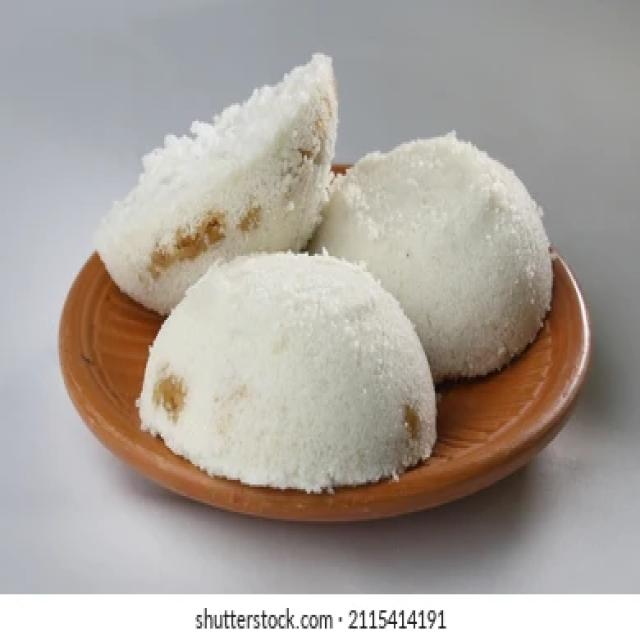IDLI: (136, 251, 435, 491), (95, 55, 336, 311), (310, 133, 550, 382)
